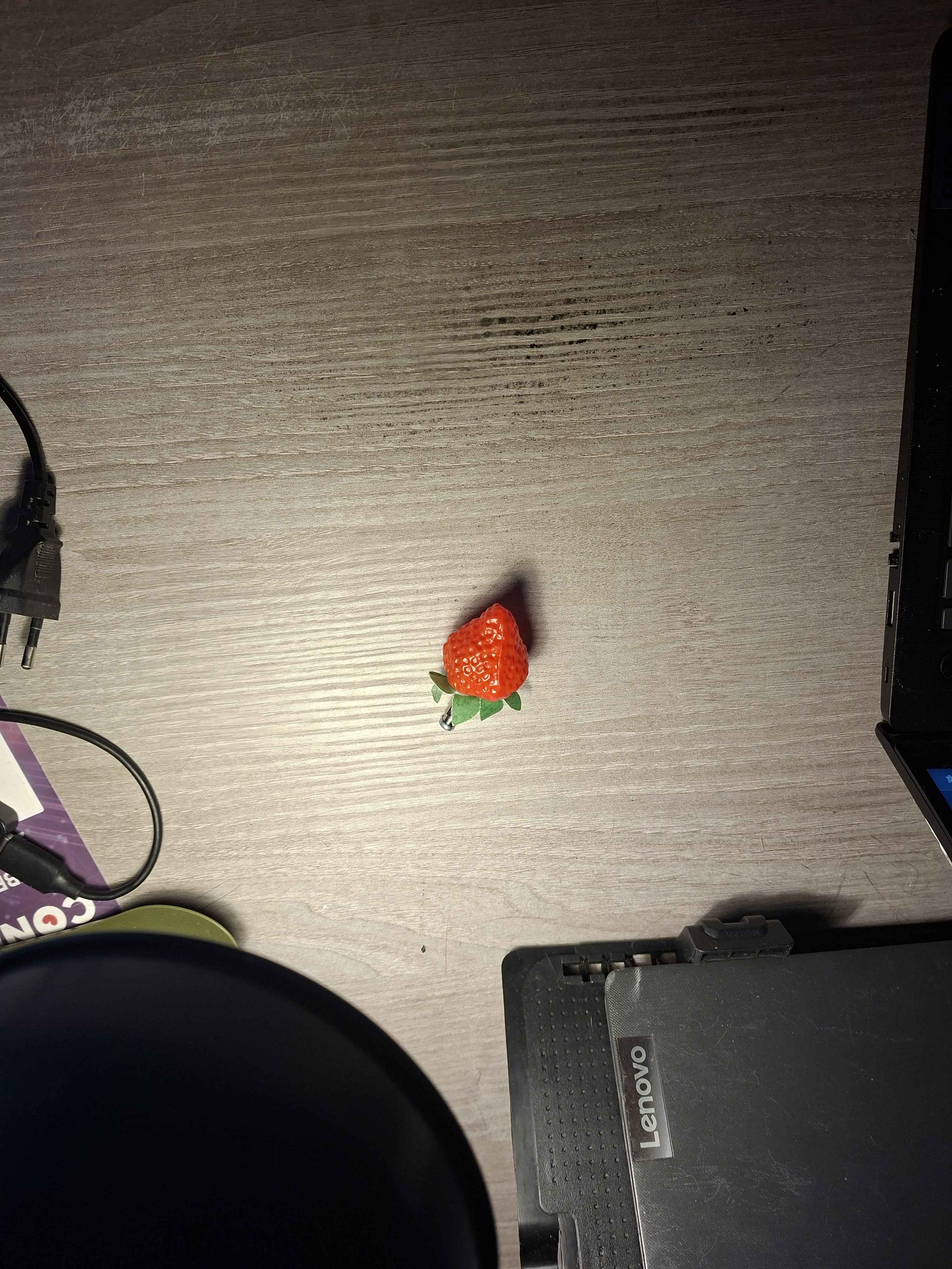Strawberry: (430, 586, 539, 715)
